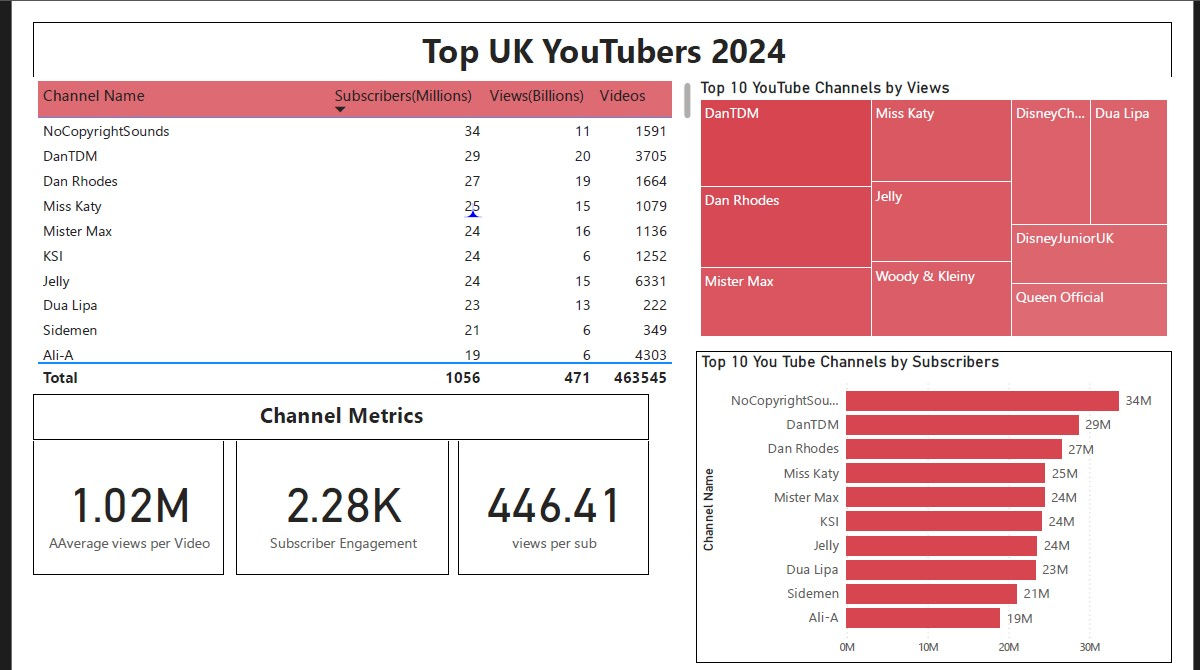

The page's visual inventory and layout, read from the dashboard file:
{"tool":"powerbi","page":{"name":"Page 1","canvas":[1280,720],"ordinal":0},"visuals":[{"type":"card","fields":{"Values":["New Measures.AVG views per Video"]},"box":[0,470.3,214.3,151.1],"z":0},{"type":"textbox","box":[0,0,1279.9,61.7],"z":1000},{"type":"tableEx","fields":{"Values":["UK_Data_View.Channel_Name","New Measures.ToatalSus","New Measures.Views","New Measures.Total Videos"]},"box":[0,61.7,744.8,356.2],"z":2000},{"type":"treemap","title":"Top 10 YouTube Channels  by Views","fields":{"Group":["UK_Data_View.Channel_Name"],"Values":["New Measures.Total Views"]},"box":[744.8,61.7,535.1,297.6],"z":3000},{"type":"card","fields":{"Values":["New Measures.views per sub"]},"box":[478,470.3,214.3,151.1],"z":5000},{"type":"card","fields":{"Values":["New Measures.Subscriber Engagement Ratio"]},"box":[228.2,470.3,239,151.1],"z":6000},{"type":"clusteredBarChart","title":"Top 10 You Tube Channels by Subscribers","fields":{"Category":["UK_Data_View.Channel_Name"],"Y":["New Measures.ToatalSubcribers"]},"box":[744.8,370.1,535.1,350],"z":7000},{"type":"textbox","box":[0,417.9,692.4,52.4],"z":8000}]}

Visuals, with their boxes in screenshot pixels (x1, y1, x2, y2), scaled from the page's 1280x720 canvas onto the 1200x670 screenshot:
card - New Measures.AVG views per Video: l=0, t=438, r=201, b=578
textbox: l=0, t=0, r=1199, b=57
tableEx - UK_Data_View.Channel_Name x New Measures.ToatalSus: l=0, t=57, r=698, b=389
"Top 10 YouTube Channels  by Views" treemap: l=698, t=57, r=1199, b=334
card - New Measures.views per sub: l=448, t=438, r=649, b=578
card - New Measures.Subscriber Engagement Ratio: l=214, t=438, r=438, b=578
"Top 10 You Tube Channels by Subscribers" clusteredBarChart: l=698, t=344, r=1199, b=669
textbox: l=0, t=389, r=649, b=438
